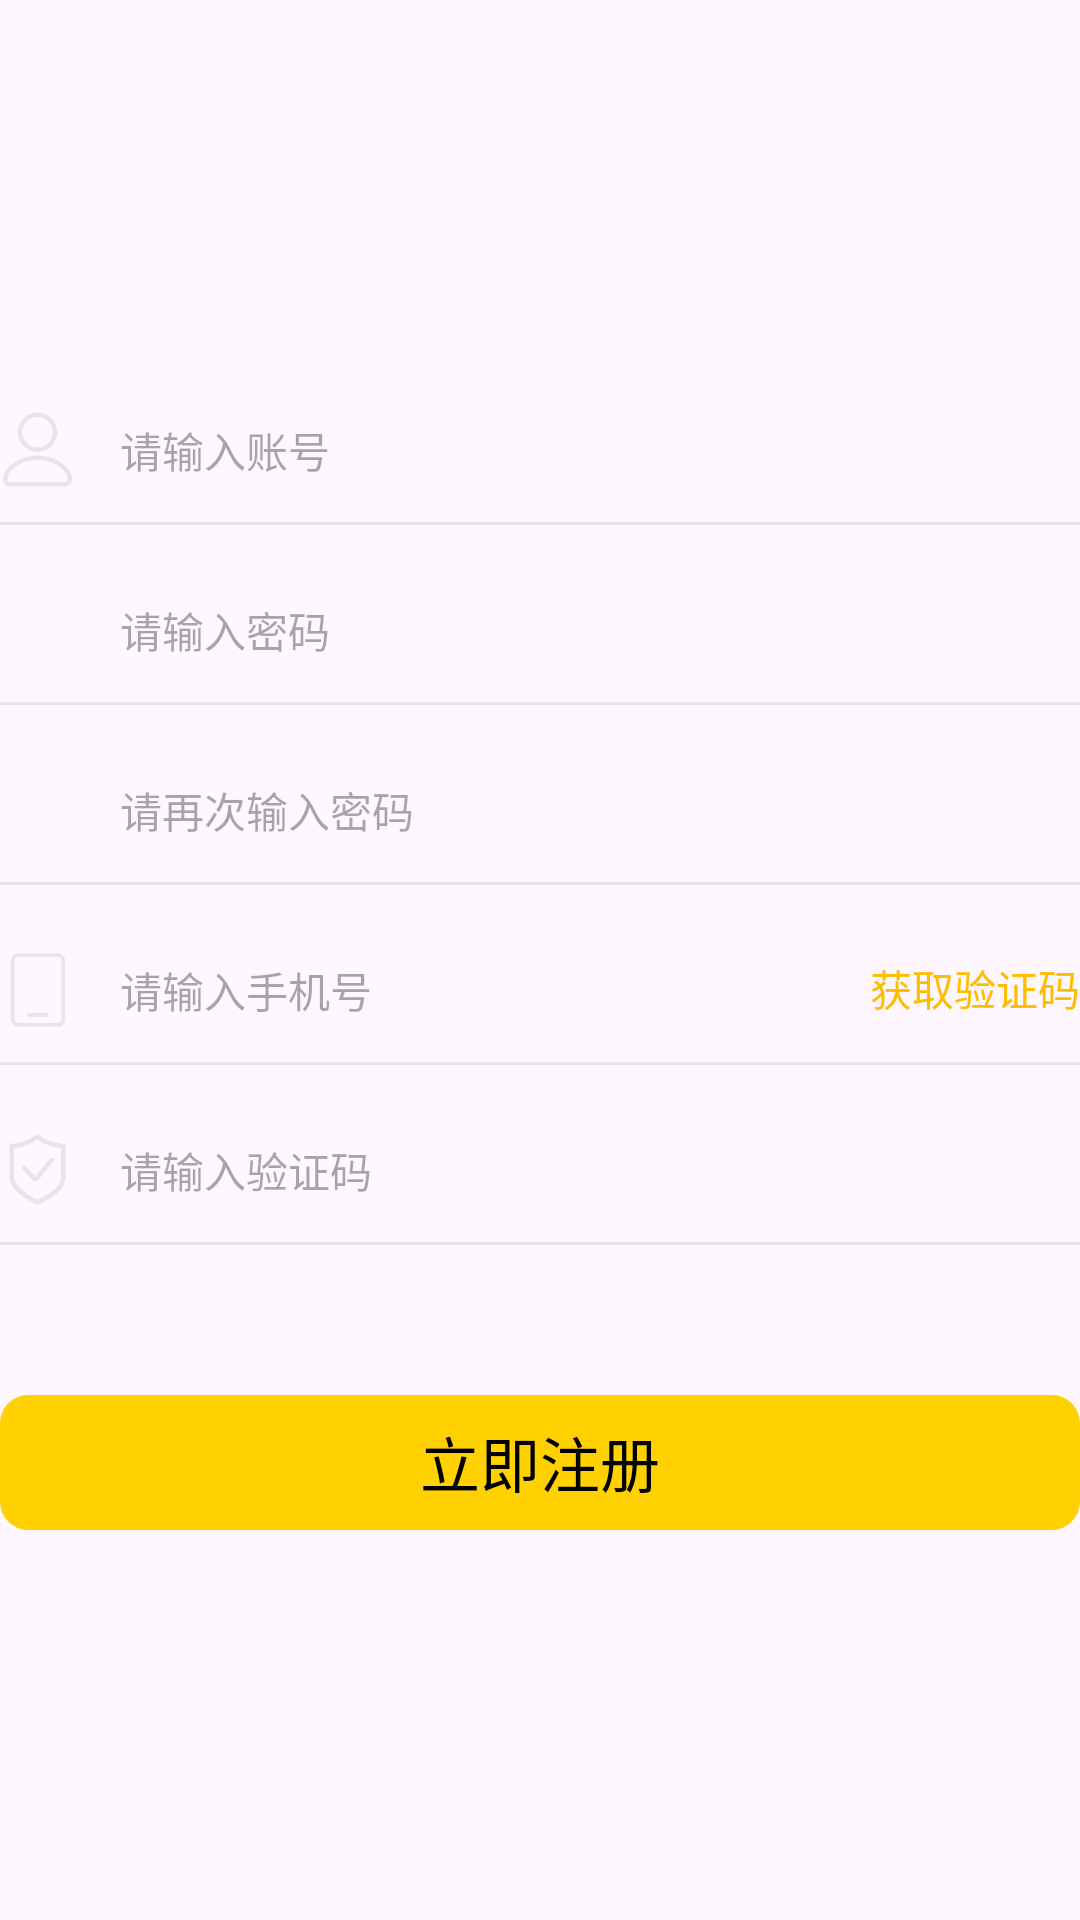

Where icons sit on this 1080px×1920px app screen, as (x1, y1, x2, y2):
login code: (10, 1135, 65, 1204)
login number: (4, 413, 71, 486)
register phone: (12, 954, 64, 1026)
